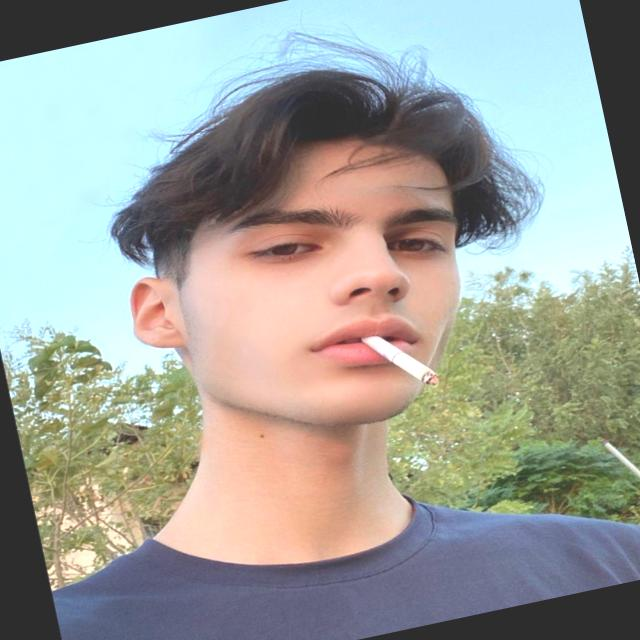smoke: (326, 298, 464, 424)
